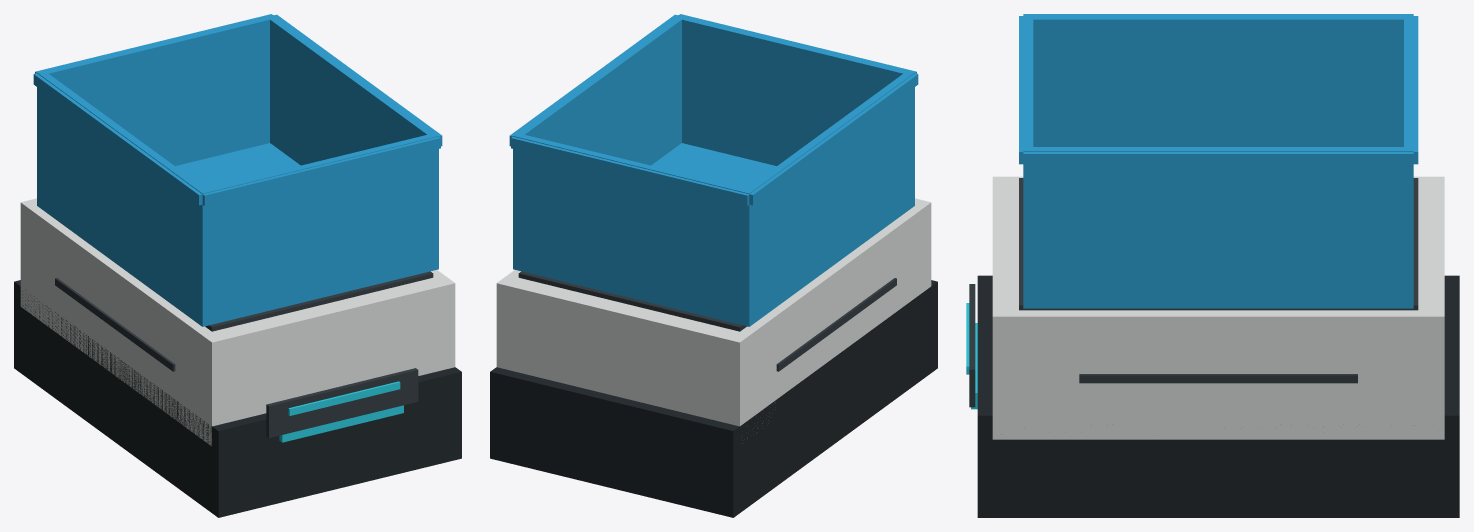
3 views of the same model, side by side, from view 1: azimuth 30°, elevation 25°; view 2: azimuth 150°, elevation 25°; view 3: azimuth 270°, elevation 25° (orthographic). The views are drawn at different scales.
Parts seen in each view (by area): view 1: P40 blue transport tote, P40 body cover, P40 lower bumper, P40 front sensor housing, P40 lowered lift deck, P40 drive cover seam, P40 scanner window, P40 front indicator strip; view 2: P40 blue transport tote, P40 lower bumper, P40 body cover, P40 lowered lift deck, P40 drive cover seam; view 3: P40 blue transport tote, P40 body cover, P40 lower bumper, P40 drive cover seam.001, P40 lowered lift deck, P40 front sensor housing.
Boxes of the visible parts, x1,y1,x2,y2 form: P40 blue transport tote: [33, 14, 442, 326]; P40 body cover: [20, 198, 455, 445]; P40 lower bumper: [14, 280, 461, 517]; P40 front sensor housing: [266, 368, 418, 437]; P40 lowered lift deck: [205, 271, 433, 331]; P40 drive cover seam: [55, 278, 175, 371]; P40 scanner window: [279, 405, 403, 442]; P40 front indicator strip: [288, 381, 400, 415]; P40 blue transport tote: [509, 14, 918, 326]; P40 lower bumper: [490, 280, 937, 517]; P40 body cover: [496, 198, 931, 426]; P40 lowered lift deck: [518, 271, 746, 331]; P40 drive cover seam: [776, 278, 896, 371]; P40 blue transport tote: [1019, 14, 1418, 308]; P40 body cover: [992, 176, 1444, 439]; P40 lower bumper: [977, 275, 1459, 517]; P40 drive cover seam.001: [1079, 374, 1357, 383]; P40 lowered lift deck: [1019, 178, 1418, 310]; P40 front sensor housing: [969, 284, 975, 407].
Size of the model in its own units: 0.448 by 0.5344 by 0.655.
